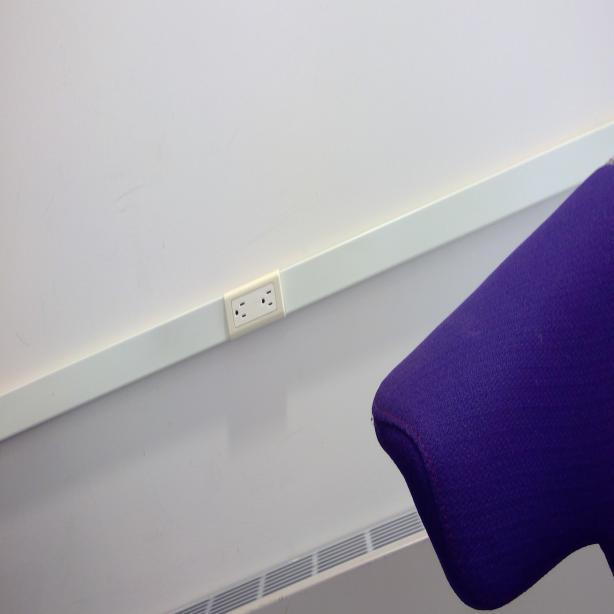typeb: (258, 281, 276, 313), (230, 298, 250, 325)
